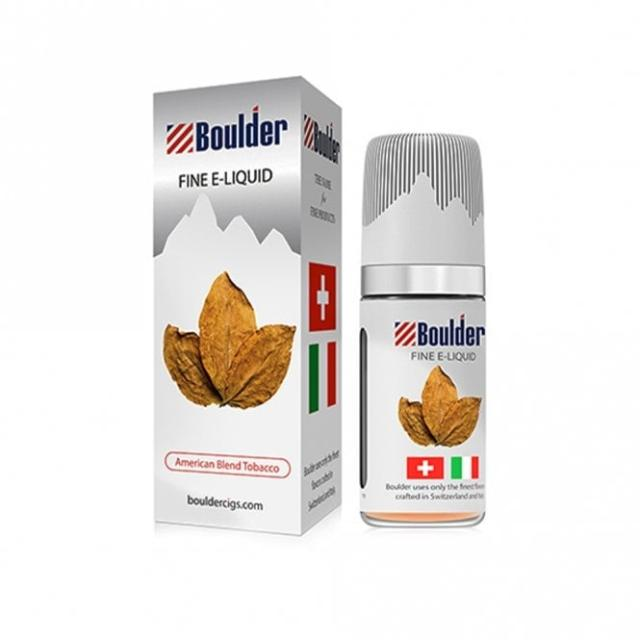Hazard: (151, 75, 344, 536), (357, 131, 488, 528)
